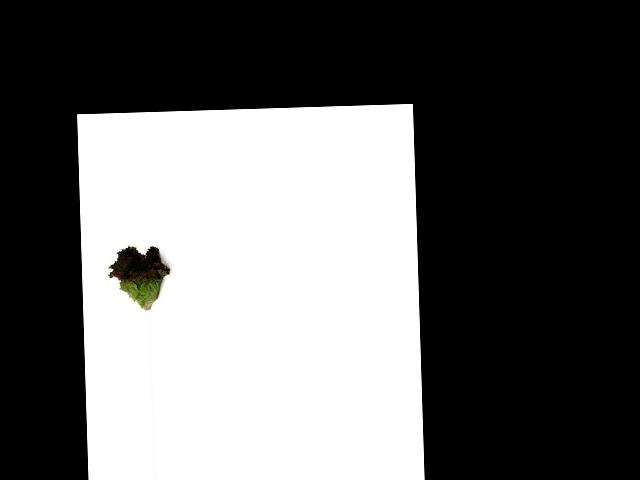lettuce: (105, 236, 176, 313)
